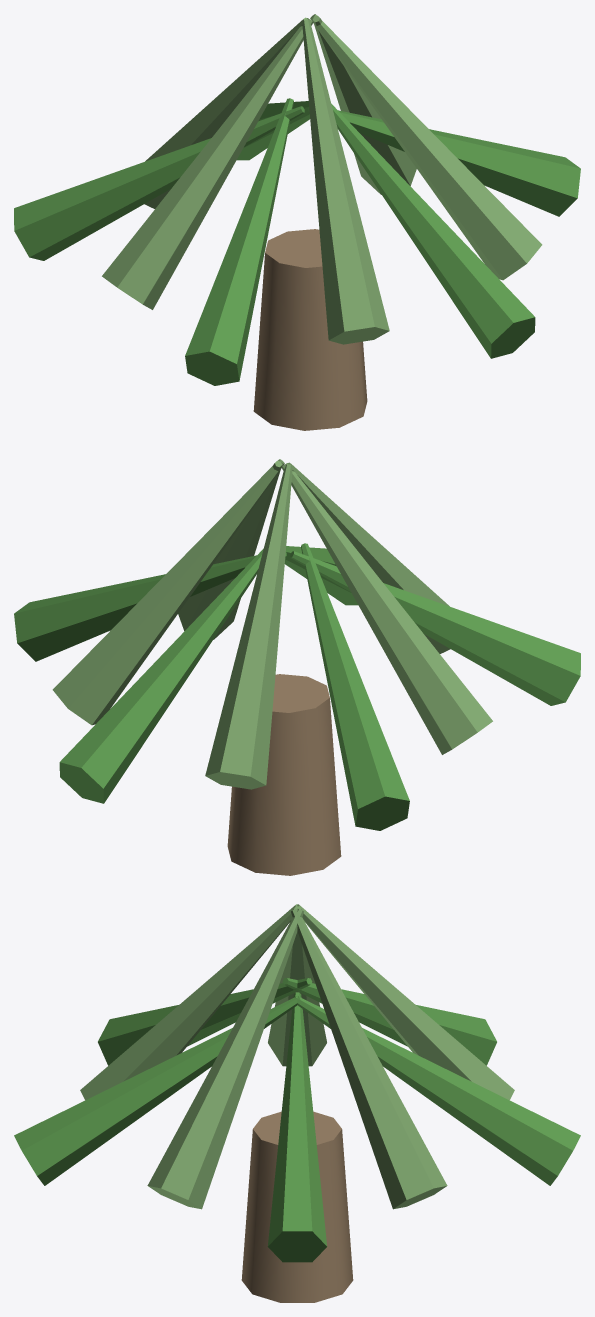
Rendered from prop_tree_desert_2.glb.
The picture shows the model from 3 angles, top to bottom: view 1: azimuth 30°, elevation 25°; view 2: azimuth 150°, elevation 25°; view 3: azimuth 270°, elevation 25°; orthographic projection. The views are drawn at different scales.
Parts seen in each view (by area): view 1: Stump, Spike7, Spike5, Spike8, Spike9, Spike6, Spike4, Spike0, Spike3, Spike1, Spike2; view 2: Stump, Spike3, Spike5, Spike2, Spike1, Spike4, Spike6, Spike0, Spike7, Spike9, Spike8; view 3: Stump, Spike1, Spike9, Spike8, Spike2, Spike0, Spike3, Spike7, Spike4, Spike6, Spike5.
Part boxes in pixels (x1=…): Stump: x1=253, y1=229, x2=367, y2=430; Spike7: x1=302, y1=19, x2=389, y2=344; Spike5: x1=102, y1=18, x2=313, y2=309; Spike8: x1=331, y1=104, x2=535, y2=358; Spike9: x1=310, y1=14, x2=542, y2=280; Spike6: x1=185, y1=98, x2=293, y2=385; Spike4: x1=14, y1=106, x2=304, y2=260; Spike0: x1=308, y1=106, x2=580, y2=216; Spike3: x1=144, y1=17, x2=307, y2=208; Spike1: x1=313, y1=15, x2=416, y2=194; Spike2: x1=237, y1=101, x2=310, y2=160; Stump: x1=227, y1=674, x2=341, y2=875; Spike3: x1=205, y1=464, x2=292, y2=789; Spike5: x1=281, y1=463, x2=492, y2=754; Spike2: x1=59, y1=549, x2=263, y2=803; Spike1: x1=52, y1=459, x2=284, y2=725; Spike4: x1=301, y1=543, x2=409, y2=830; Spike6: x1=290, y1=551, x2=580, y2=705; Spike0: x1=14, y1=551, x2=286, y2=661; Spike7: x1=287, y1=462, x2=450, y2=653; Spike9: x1=178, y1=460, x2=281, y2=639; Spike8: x1=284, y1=546, x2=357, y2=605; Stump: x1=241, y1=1111, x2=353, y2=1302; Spike1: x1=291, y1=908, x2=447, y2=1209; Spike9: x1=147, y1=909, x2=303, y2=1209; Spike8: x1=14, y1=996, x2=300, y2=1185; Spike2: x1=294, y1=996, x2=580, y2=1185; Spike0: x1=267, y1=992, x2=327, y2=1262; Spike3: x1=297, y1=904, x2=514, y2=1100; Spike7: x1=80, y1=904, x2=297, y2=1100; Spike4: x1=282, y1=978, x2=496, y2=1065; Spike6: x1=98, y1=978, x2=312, y2=1065; Spike5: x1=268, y1=906, x2=326, y2=1066.
Size of the model in its own units: 2.82 by 2.22 by 3.05.
